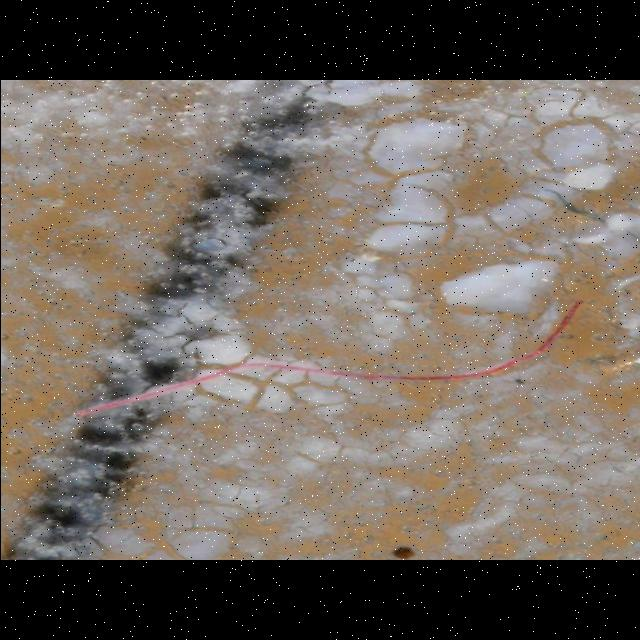Fibre: (66, 286, 608, 420)
